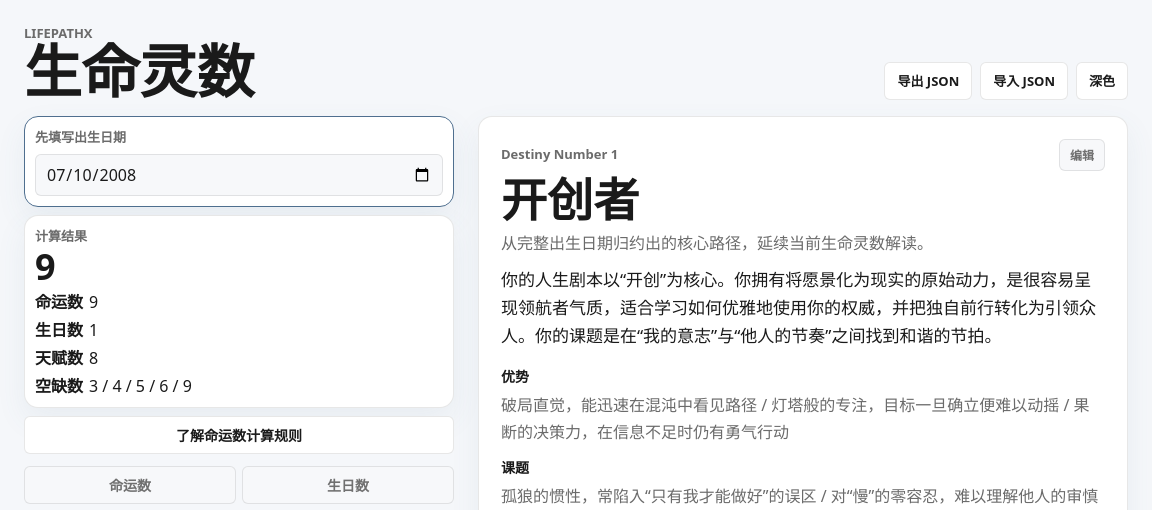
Test case: MainPage › 输入生日后自动计算并联动解读
Type "1942-06-18" into the date field labelled "先填写出生日期" at (239, 175), box 35,154 -> 443,196
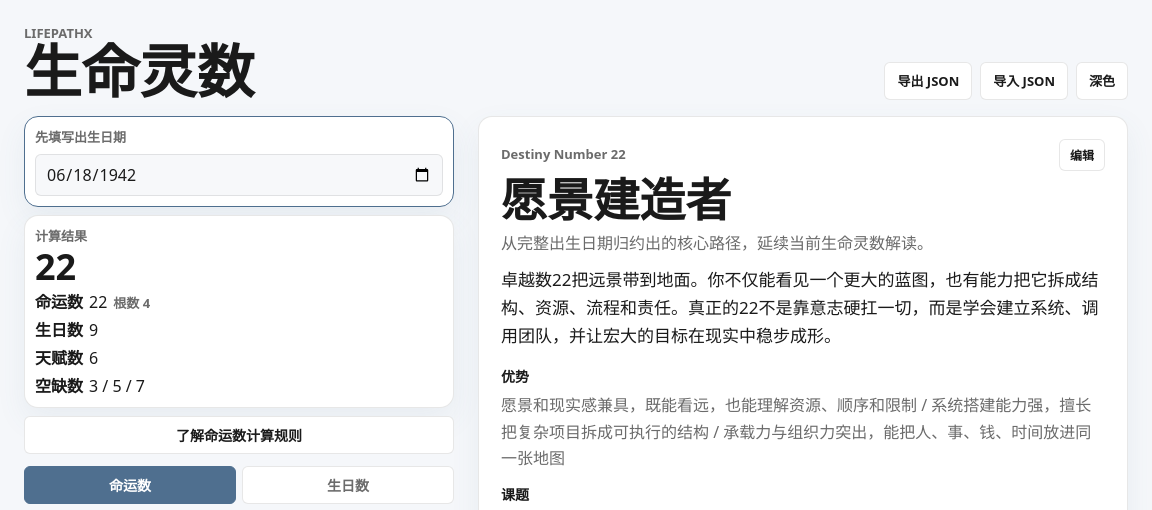
Expected: the text "愿景建造者" is shown, 501,168 -> 731,231
Expected: the text "命运数 22" is shown, 35,291 -> 150,313
Expected: the text "根数 4" is shown, 113,293 -> 150,312
